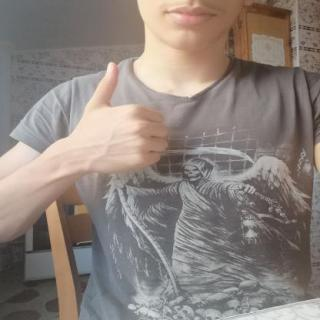ALIF: (55, 55, 182, 187)
